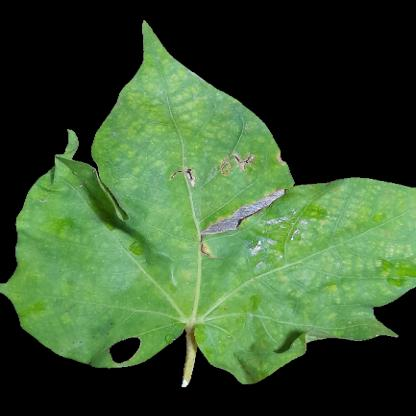curl_stage1: (292, 204, 403, 295), (138, 82, 226, 182), (165, 256, 257, 332), (140, 214, 222, 282), (22, 290, 130, 339), (42, 215, 113, 289), (254, 294, 365, 335), (244, 215, 306, 271), (99, 132, 140, 177), (140, 55, 187, 85)
